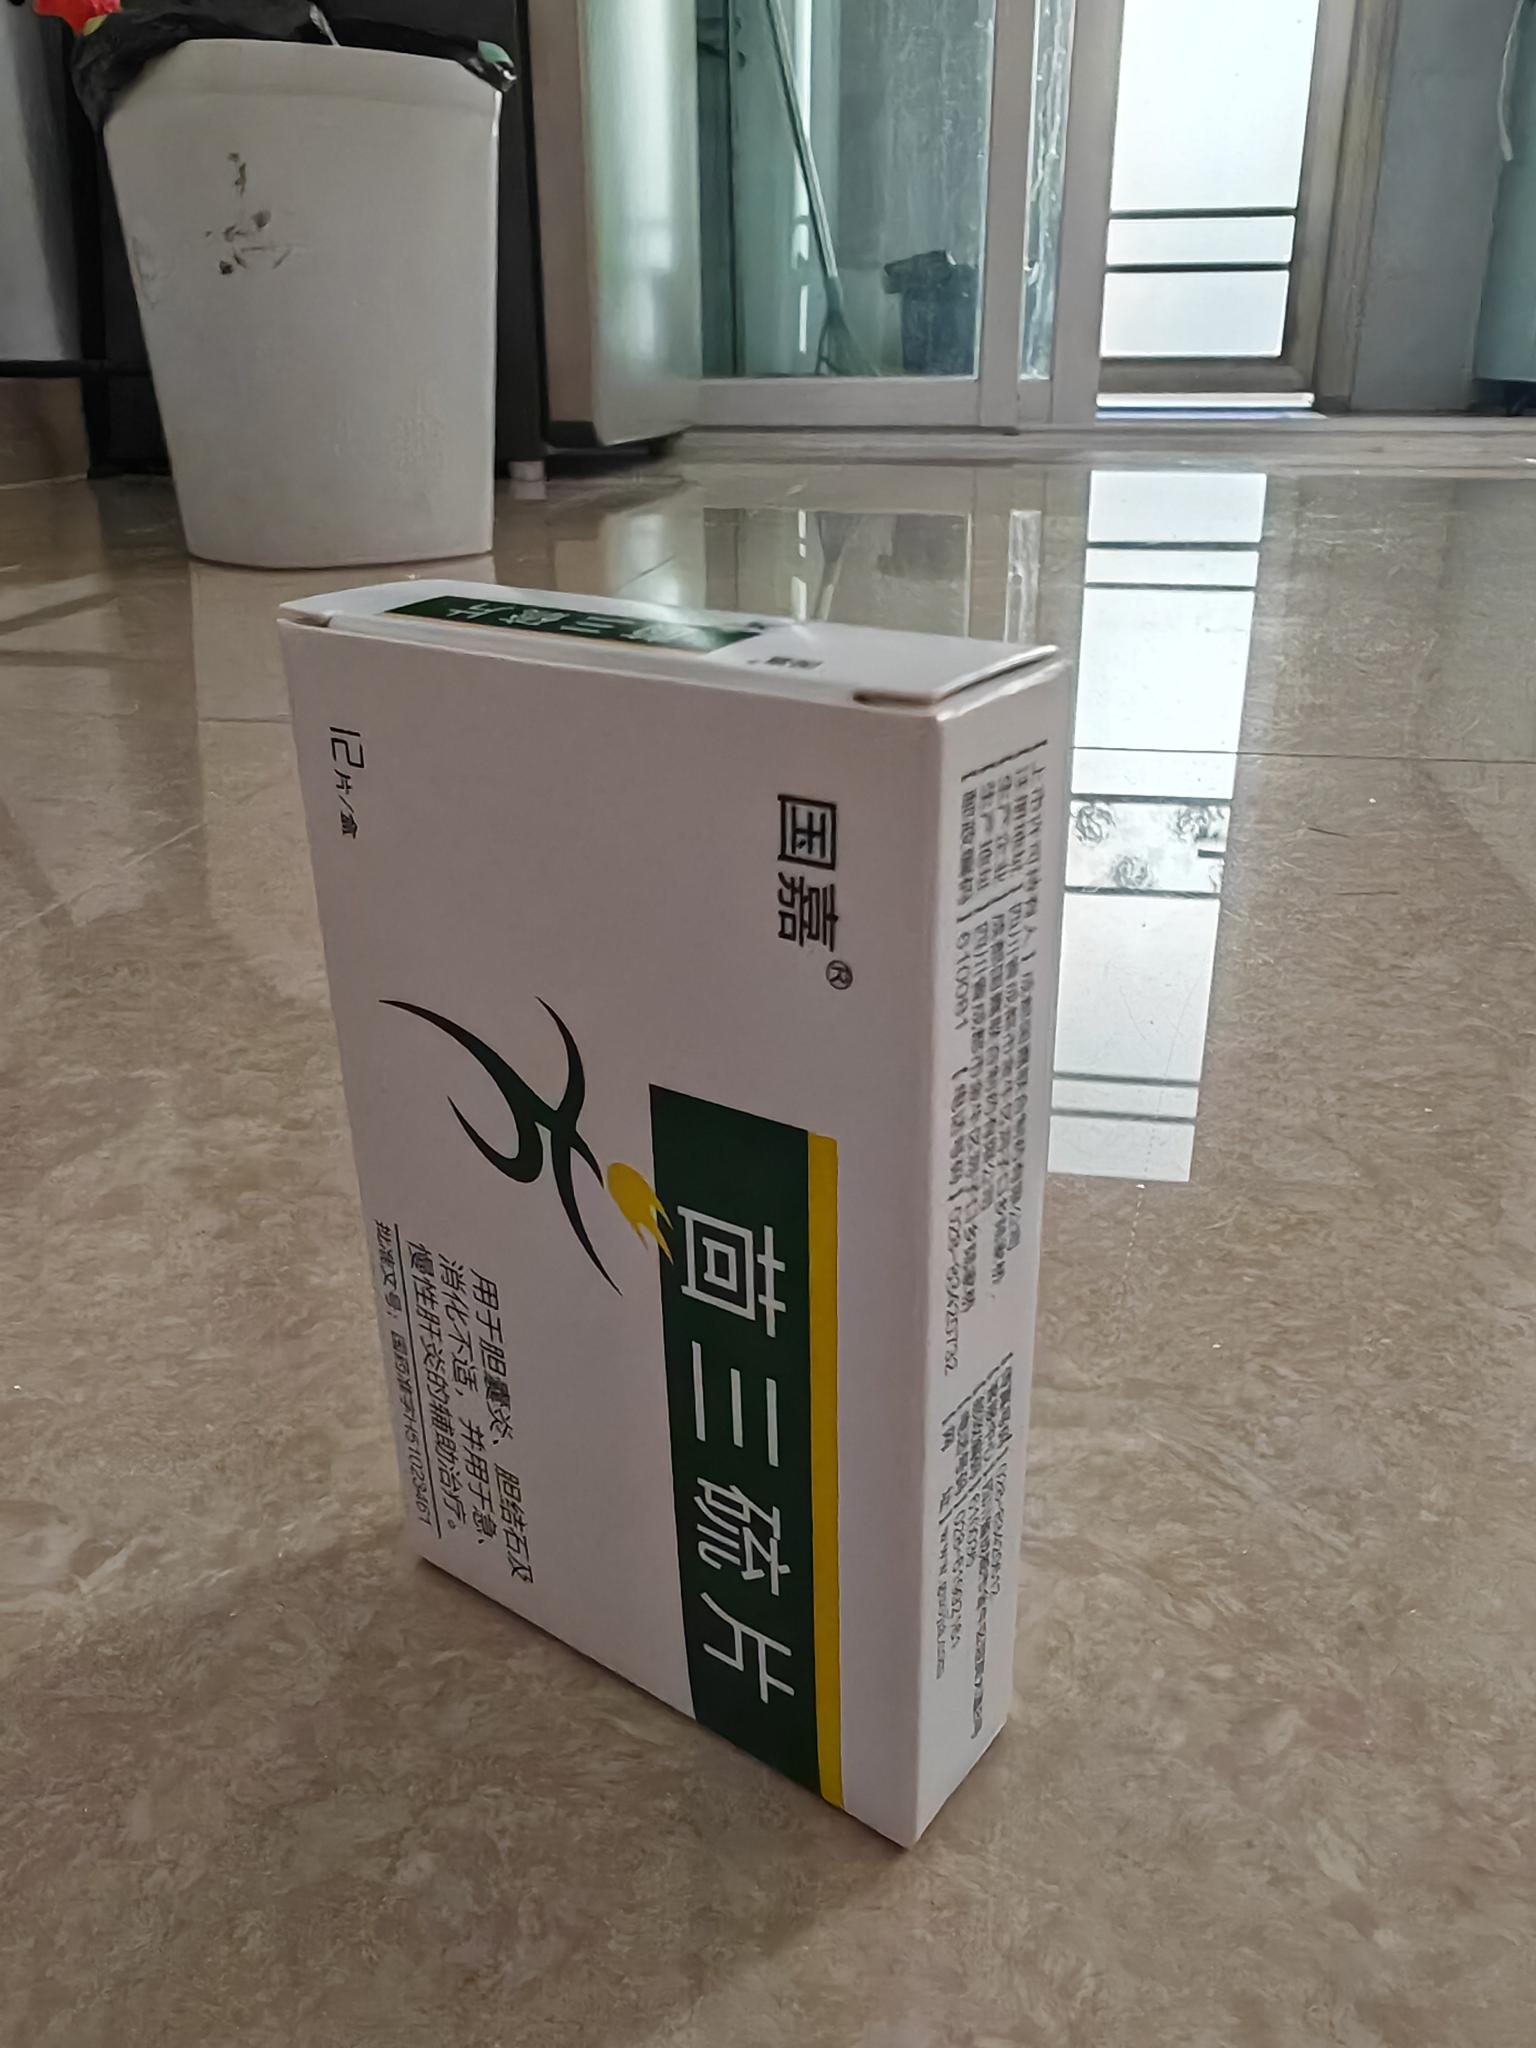Medicine4: (265, 558, 1079, 1859)
